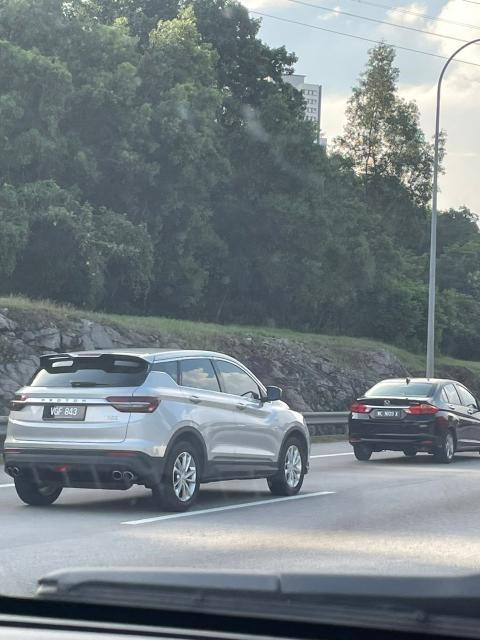License_Plate: (44, 401, 84, 424), (370, 404, 402, 421)
car: (8, 344, 318, 524), (338, 363, 480, 459)
